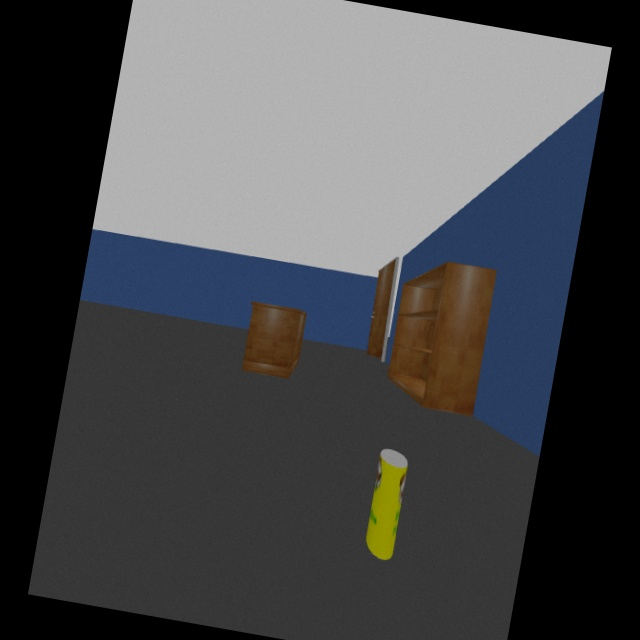chipsdose_gelb: (366, 449, 408, 561)
